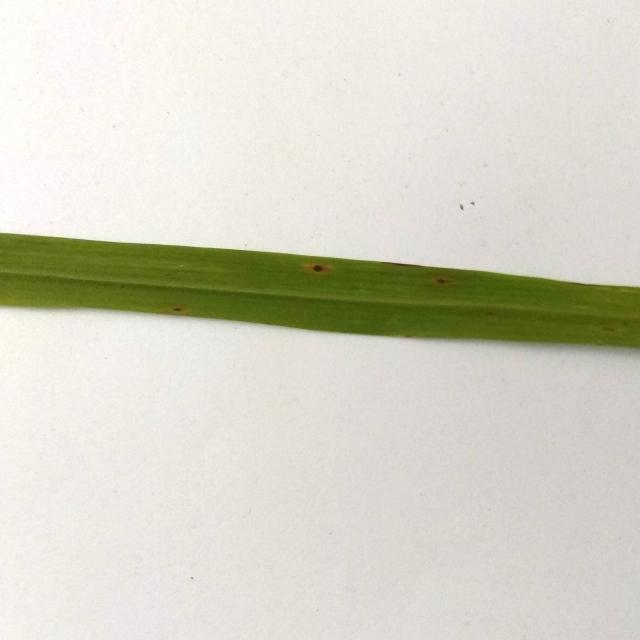Brown spot: (423, 265, 460, 292), (306, 257, 332, 276), (158, 300, 182, 316)
